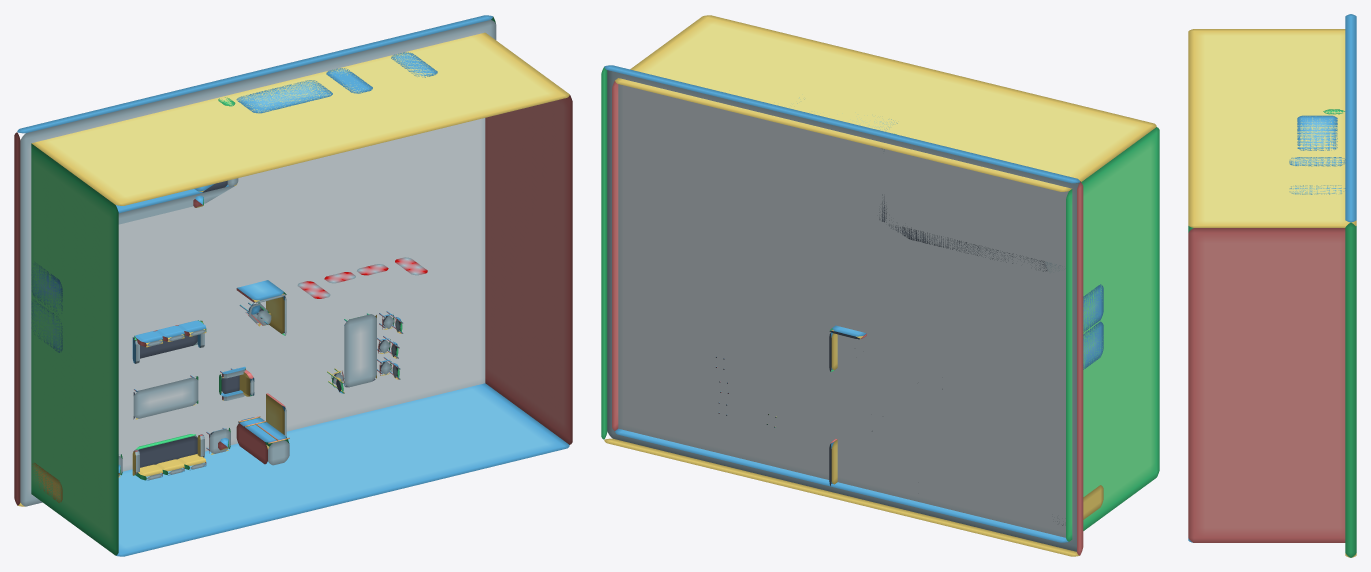
Rendered from iwatodai_dorm.obj.
The picture shows the model from 3 angles, left to right: view 1: azimuth 30°, elevation 25°; view 2: azimuth 150°, elevation 25°; view 3: azimuth 270°, elevation 25°; orthographic projection. The views are drawn at different scales.
Visible parts, largest first — view 1: floor_Mesh, wall_north_Mesh, wall_south_Mesh, wall_west_Mesh, wall_east_Mesh, mesh.022_Mesh, mesh.009_Mesh, mesh.010_Mesh, billboard_Mesh, mesh.001_Mesh, mesh.015_Mesh, front_door_1_Mesh (+1 smaller); view 2: floor_Mesh, wall_north_Mesh, wall_west_Mesh, wall_south_Mesh, wall_east_Mesh, mesh.001_Mesh, front_door_2_Mesh, front_door_1_Mesh; view 3: wall_east_Mesh, wall_north_Mesh, floor_Mesh, billboard_Mesh, door_1_Mesh, door_2_Mesh.
Part boxes in pixels (bbox=[...]): floor_Mesh: bbox=[14, 15, 496, 506]; wall_north_Mesh: bbox=[32, 32, 569, 205]; wall_south_Mesh: bbox=[116, 383, 569, 556]; wall_west_Mesh: bbox=[31, 143, 118, 555]; wall_east_Mesh: bbox=[485, 95, 572, 444]; mesh.022_Mesh: bbox=[344, 314, 376, 387]; mesh.009_Mesh: bbox=[133, 376, 198, 419]; mesh.010_Mesh: bbox=[236, 417, 289, 465]; billboard_Mesh: bbox=[236, 80, 332, 113]; mesh.001_Mesh: bbox=[116, 183, 237, 224]; mesh.015_Mesh: bbox=[134, 434, 197, 467]; front_door_1_Mesh: bbox=[31, 262, 62, 314]; floor_Mesh: bbox=[601, 65, 1083, 556]; wall_north_Mesh: bbox=[615, 15, 1156, 191]; wall_west_Mesh: bbox=[1066, 127, 1159, 541]; wall_south_Mesh: bbox=[615, 428, 1068, 542]; wall_east_Mesh: bbox=[612, 81, 618, 430]; mesh.001_Mesh: bbox=[884, 222, 1065, 272]; front_door_2_Mesh: bbox=[1083, 321, 1103, 369]; front_door_1_Mesh: bbox=[1083, 284, 1103, 332]; wall_east_Mesh: bbox=[1188, 228, 1345, 542]; wall_north_Mesh: bbox=[1188, 29, 1356, 227]; floor_Mesh: bbox=[1345, 14, 1356, 557]; billboard_Mesh: bbox=[1297, 115, 1337, 150]; door_1_Mesh: bbox=[1289, 157, 1345, 166]; door_2_Mesh: bbox=[1289, 185, 1345, 194].
Bounding box in the file's own units: 2.75 × 2.06 × 0.9375.
1 material, 1 textured.
